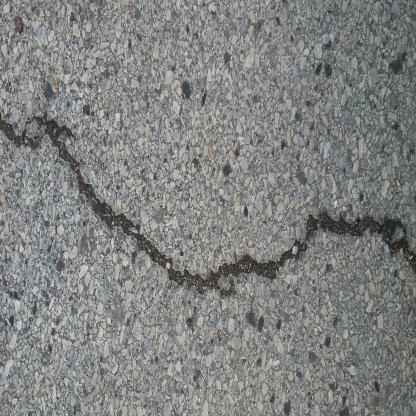Cracks: (1, 108, 415, 303)
